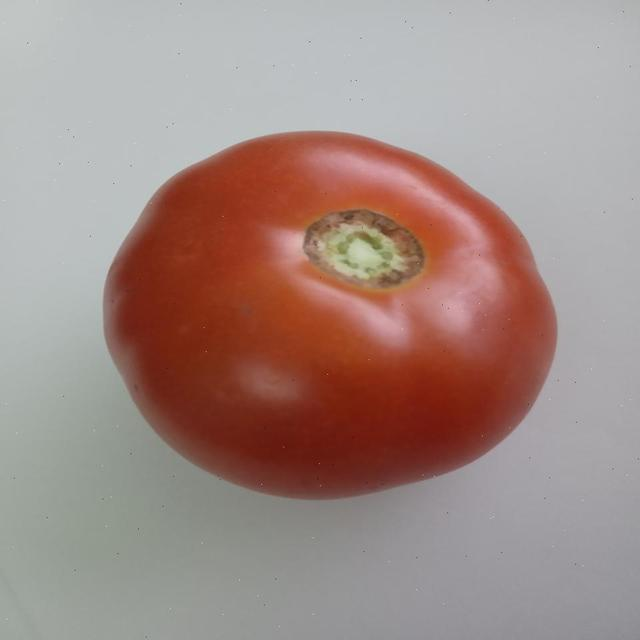Healthy Fruit: (57, 78, 380, 337)
